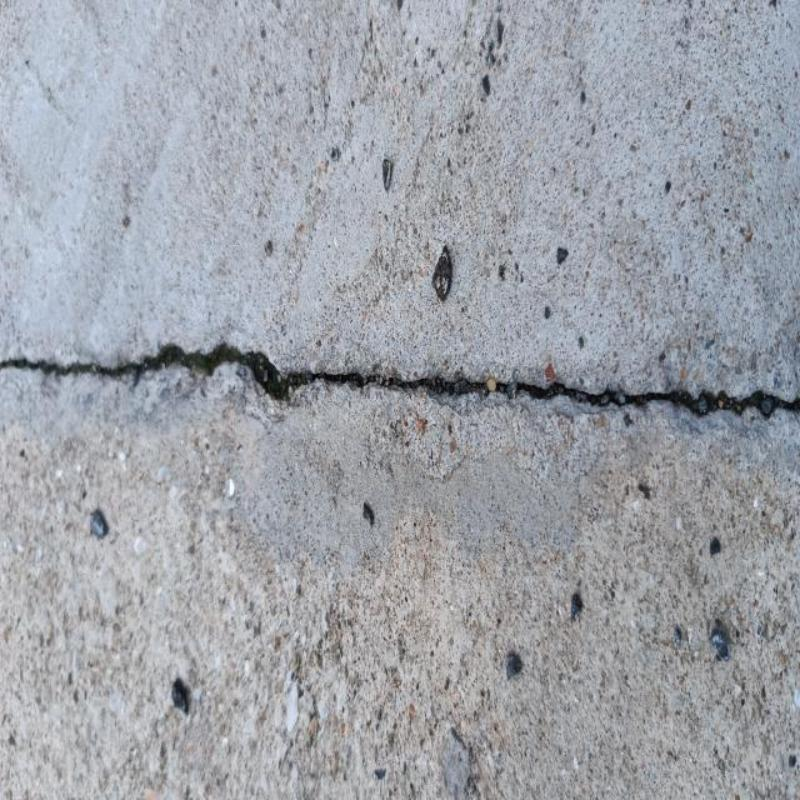pothole: (0, 344, 800, 417)
